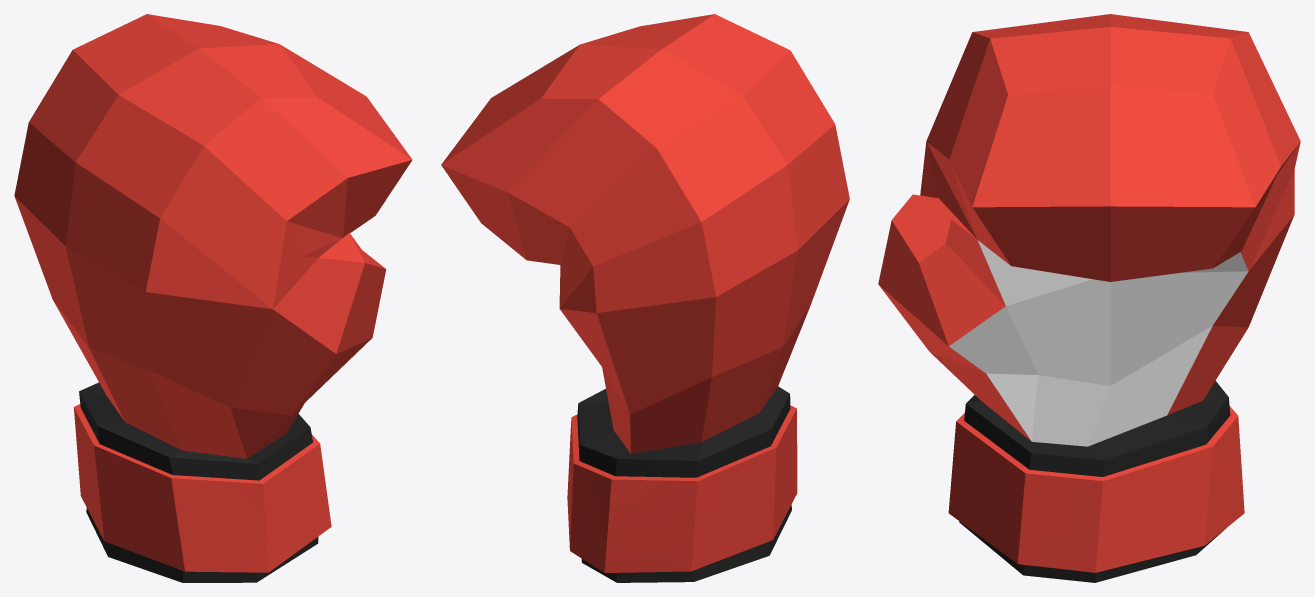
File: boxing glove left.glb
The picture shows the model from 3 angles, left to right: view 1: azimuth 30°, elevation 25°; view 2: azimuth 150°, elevation 25°; view 3: azimuth 270°, elevation 25°; orthographic projection. The views are drawn at different scales.
Parts seen in each view (by area): view 1: Boxing Glove.001; view 2: Boxing Glove.001; view 3: Boxing Glove.001.
Boxes of the visible parts, <box> form: Boxing Glove.001: <box>14,14,412,582</box>; Boxing Glove.001: <box>441,14,849,582</box>; Boxing Glove.001: <box>878,14,1300,582</box>.
Size of the model in its own units: 33.63 by 51.86 by 38.88.
1 material, 1 textured.
